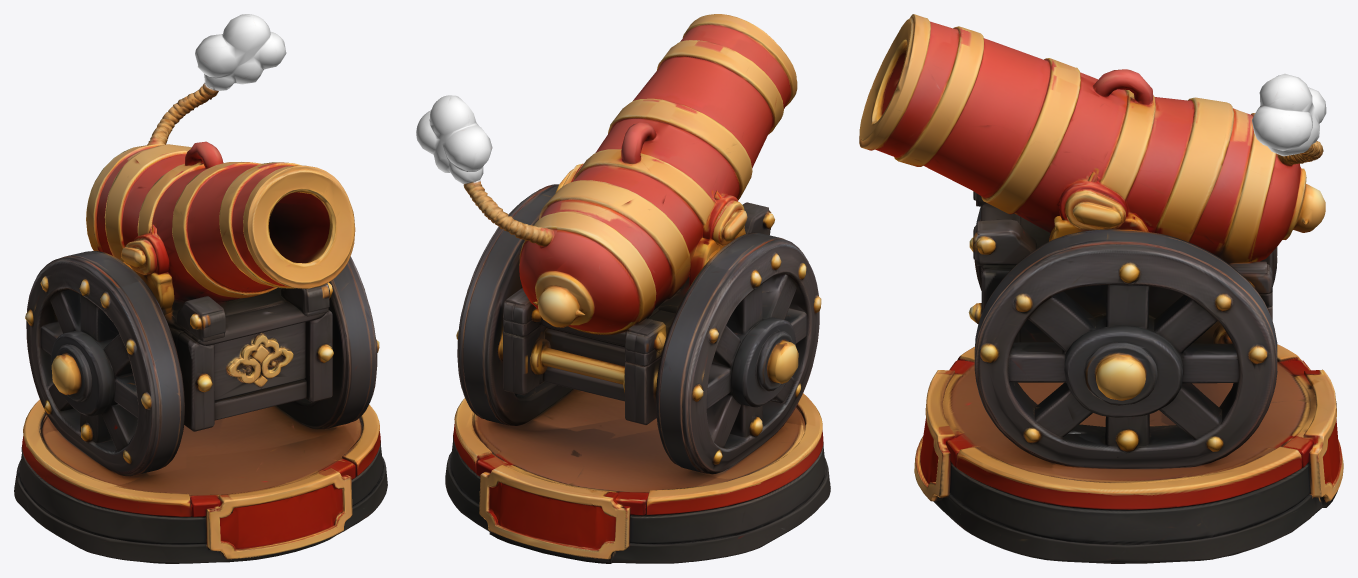
Rendered from child-ming-r-budget50.glb.
3 views of the same model, side by side, from view 1: azimuth 30°, elevation 25°; view 2: azimuth 150°, elevation 25°; view 3: azimuth 270°, elevation 25° (orthographic). The views are drawn at different scales.
Visible parts, largest first — view 1: node_0; view 2: node_0; view 3: node_0.
Part boxes in pixels (x1,y1,x2,y2): node_0: (14,14,387,563); node_0: (416,14,830,563); node_0: (859,14,1343,563).
Bounding box in the file's own units: 0.7258 × 0.859 × 0.8146.
Materials: 1 (1 with a texture image).
